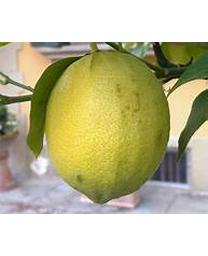lemon: (46, 53, 171, 205)
